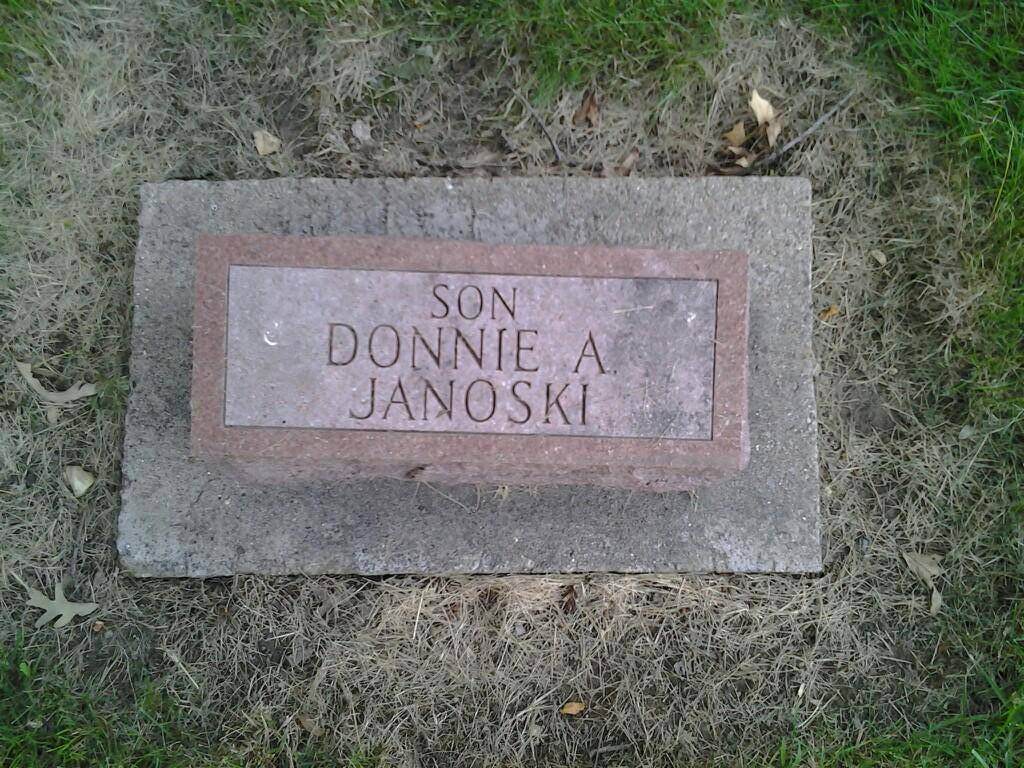flat: (112, 172, 823, 577)
